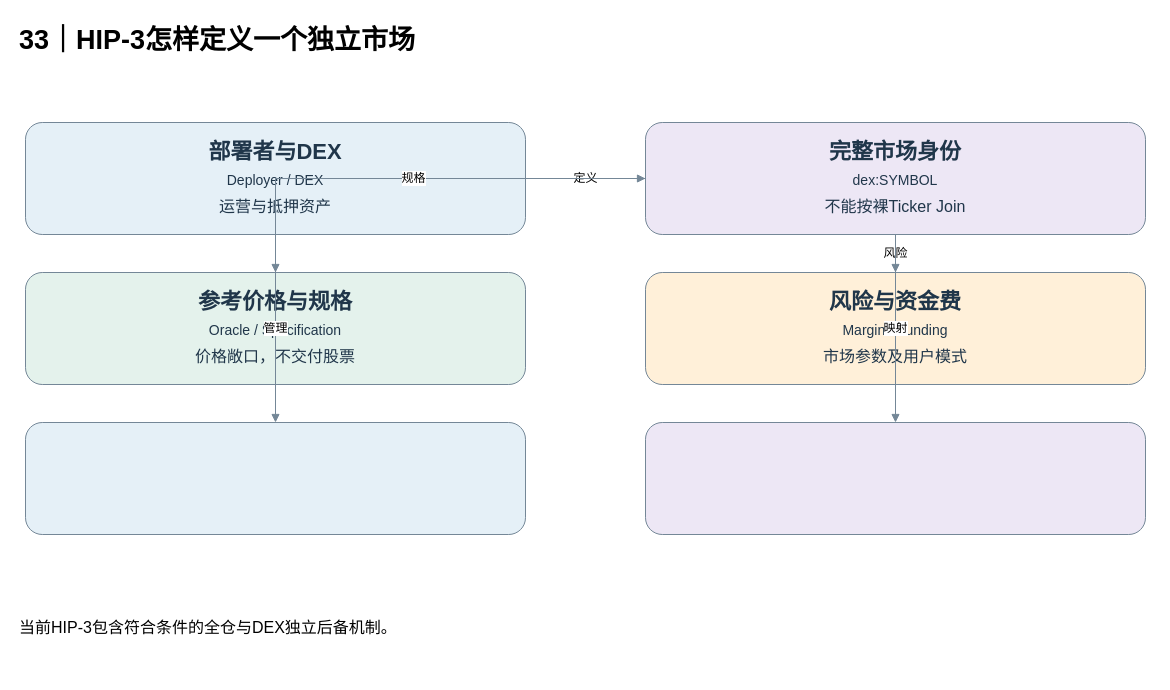
Some shapes in this 1170 by 690 pixel diagram are drawn without their labels. Each missing label, with the box of its shape:
数据注册表 Market registry coin保留DEX前缀: (644, 422, 1146, 534)
管理生命周期 Register / Halt / Settle 行政结算另记: (24, 422, 526, 534)
